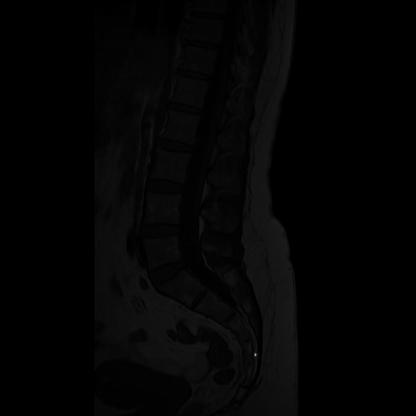Disc Bulgerotation: (142, 260, 192, 289), (139, 220, 187, 243)
